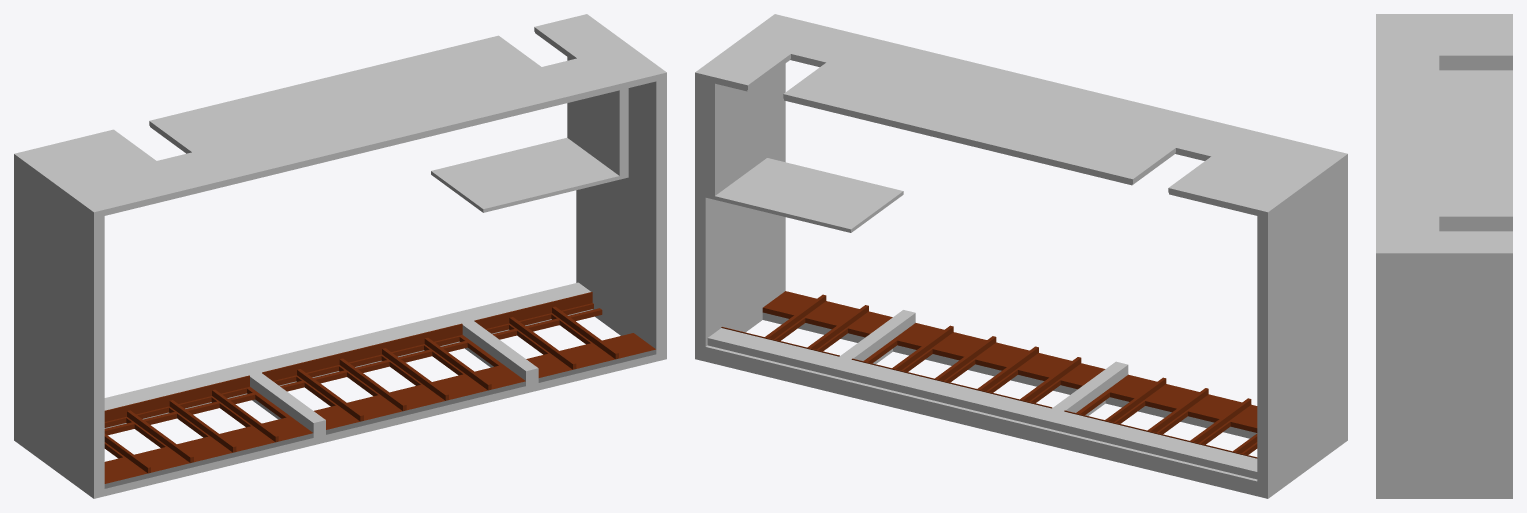
File: walls.obj
The picture shows the model from 3 angles, left to right: view 1: azimuth 30°, elevation 25°; view 2: azimuth 150°, elevation 25°; view 3: azimuth 270°, elevation 25°; orthographic projection. The views are drawn at different scales.
Parts seen in each view (by area): view 1: walls:Walls; view 2: walls:Walls; view 3: walls:Walls.
Part boxes in pixels (x1,y1,x2,y2): walls:Walls: (14, 14, 666, 498); walls:Walls: (695, 14, 1347, 498); walls:Walls: (1376, 14, 1512, 498).
Size of the model in its own units: 16150 by 7720 by 3900.
